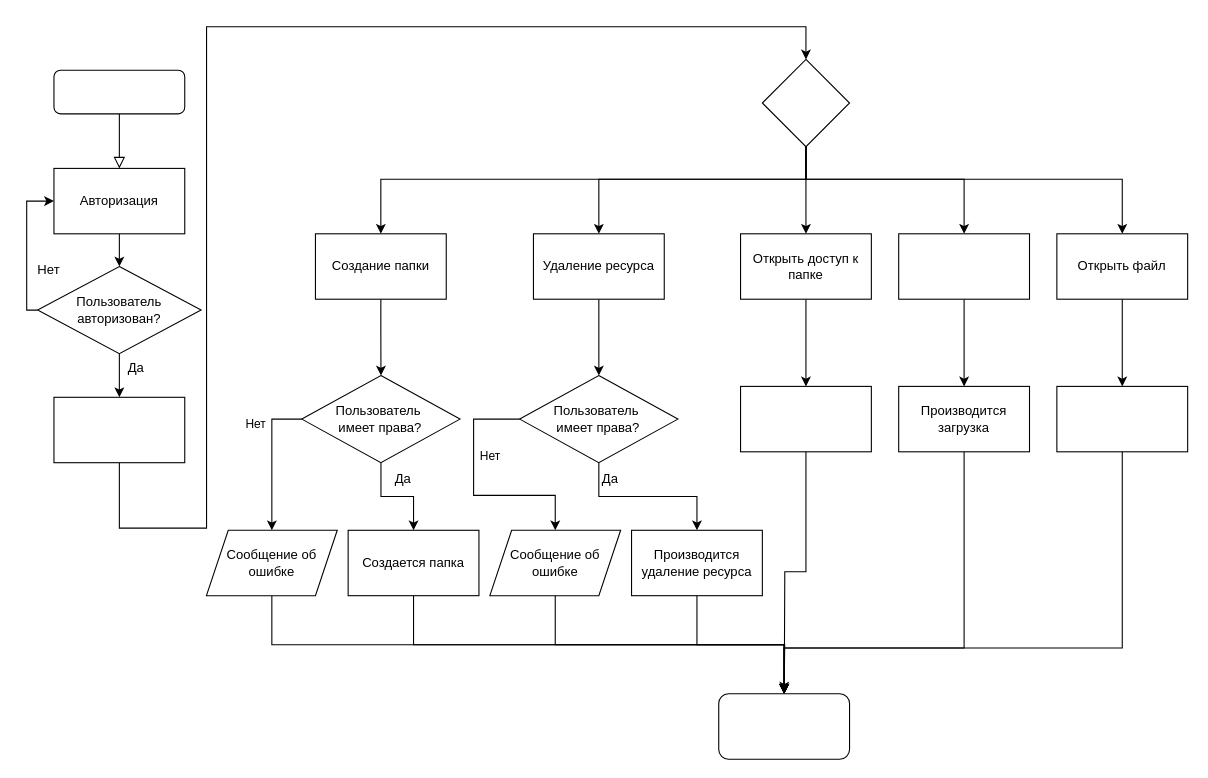
This 1208x778 diagram has some shape labels left out. The box of each missing label's shape, as (x1, y1, x2, y2) in pixels:
Выбор действия: (761, 58, 850, 147)
Домашняя страница пользователя: (53, 396, 185, 463)
Загрузить файл: (898, 233, 1030, 299)
Конец: (718, 693, 850, 759)
Начало: (53, 69, 185, 114)
Открывается доступ для выбранного пользователя: (739, 385, 871, 452)
Открывается страница для просмотра: (1056, 385, 1188, 452)
